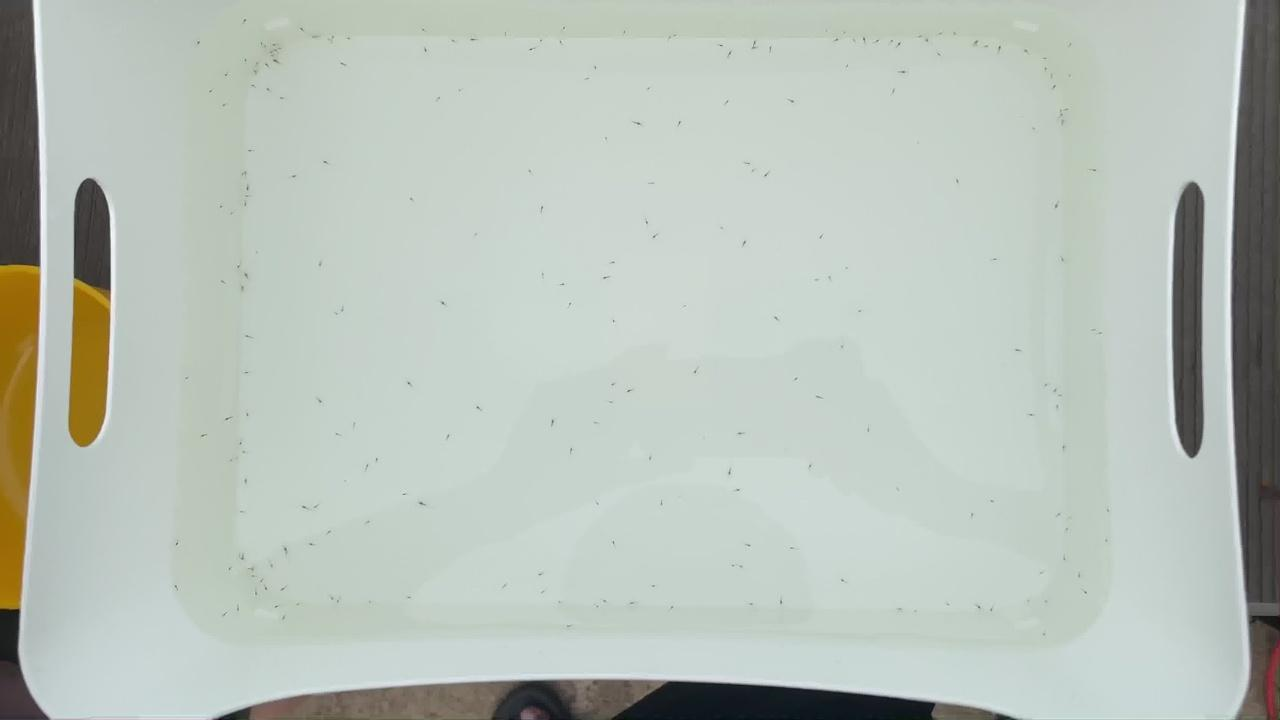shrimp: (1051, 202, 1064, 210), (1087, 168, 1100, 176), (935, 30, 948, 38), (898, 68, 911, 76), (893, 41, 906, 49), (858, 35, 871, 43), (848, 35, 861, 43), (499, 30, 512, 38), (325, 35, 338, 43), (218, 102, 231, 110), (276, 96, 289, 104), (236, 285, 249, 293), (640, 218, 653, 226), (738, 240, 751, 248), (813, 235, 826, 243), (823, 274, 836, 282), (1102, 506, 1115, 514), (1054, 511, 1067, 519), (1079, 589, 1092, 597), (941, 600, 954, 608), (965, 511, 978, 519), (787, 545, 800, 553), (813, 395, 826, 403), (804, 462, 817, 470), (607, 318, 620, 326), (592, 501, 605, 509), (647, 584, 660, 592), (626, 600, 639, 608), (416, 501, 429, 509), (371, 456, 384, 464), (403, 594, 416, 602), (364, 600, 377, 608), (241, 334, 254, 342), (172, 539, 185, 547), (169, 584, 182, 592), (259, 584, 272, 592), (233, 606, 246, 614), (265, 562, 278, 570), (218, 611, 231, 619), (950, 30, 962, 38), (823, 30, 835, 38), (419, 46, 431, 54), (269, 58, 281, 66), (241, 168, 253, 176), (563, 622, 575, 630), (1054, 197, 1067, 204), (951, 181, 964, 188), (1028, 126, 1041, 133), (1057, 120, 1070, 127), (1060, 108, 1073, 115), (1049, 83, 1062, 90), (1046, 74, 1059, 81), (1039, 66, 1052, 73), (1039, 55, 1052, 62), (1064, 72, 1077, 79), (1064, 42, 1077, 49), (1020, 50, 1033, 57), (993, 45, 1006, 52), (980, 44, 993, 51), (969, 39, 982, 46), (921, 38, 934, 45), (914, 35, 927, 42), (886, 87, 899, 94), (841, 64, 854, 71), (886, 39, 899, 46), (870, 38, 883, 45), (838, 30, 851, 37), (831, 36, 844, 43), (763, 46, 776, 53), (750, 45, 763, 52), (749, 40, 762, 47), (724, 50, 737, 57), (715, 42, 728, 49), (664, 35, 677, 42), (617, 29, 630, 36), (555, 38, 568, 45), (535, 37, 548, 44), (526, 46, 539, 53), (464, 38, 477, 45), (448, 38, 461, 45), (417, 29, 430, 36), (336, 61, 349, 68), (341, 36, 354, 43), (325, 40, 338, 47), (323, 37, 336, 44), (308, 34, 321, 41), (296, 28, 309, 35), (238, 18, 251, 25), (193, 39, 206, 46), (205, 89, 218, 96), (219, 72, 232, 79), (245, 83, 258, 90), (261, 86, 274, 93), (250, 70, 263, 77), (251, 61, 264, 68), (239, 56, 252, 63), (259, 63, 272, 70), (270, 47, 283, 54), (265, 50, 278, 57), (259, 44, 272, 51), (289, 174, 302, 181), (319, 159, 332, 166), (236, 170, 249, 177), (246, 148, 259, 155), (241, 192, 254, 199), (240, 200, 253, 207), (226, 211, 239, 218), (215, 203, 228, 210), (232, 264, 245, 271), (218, 278, 231, 285), (240, 272, 253, 279), (250, 250, 263, 257), (313, 260, 326, 267), (336, 305, 349, 312), (406, 196, 419, 203), (434, 96, 447, 103), (453, 88, 466, 95), (470, 231, 483, 238), (524, 168, 537, 175), (535, 206, 548, 213), (583, 75, 596, 82), (589, 65, 602, 72), (642, 87, 655, 94), (632, 121, 645, 128), (599, 135, 612, 142), (721, 99, 734, 106), (787, 98, 800, 105), (761, 173, 774, 180), (749, 167, 762, 174), (742, 162, 755, 169), (646, 181, 659, 188), (647, 234, 660, 241), (771, 315, 784, 322), (854, 309, 867, 316), (1056, 257, 1069, 264), (1088, 326, 1101, 333), (1093, 330, 1106, 337), (1041, 382, 1054, 389), (1048, 389, 1061, 396), (1051, 404, 1064, 411), (1024, 412, 1037, 419), (1057, 444, 1070, 451), (1060, 527, 1073, 534), (1064, 517, 1077, 524), (1059, 555, 1072, 562), (1072, 571, 1085, 578), (1036, 571, 1049, 578), (1039, 598, 1052, 605), (1021, 597, 1034, 604), (1038, 631, 1051, 638), (986, 606, 999, 613), (985, 499, 998, 506), (910, 608, 923, 615), (892, 606, 905, 613), (835, 577, 848, 584), (774, 598, 787, 605), (728, 563, 741, 570), (742, 541, 755, 548), (893, 488, 906, 495), (790, 377, 803, 384), (836, 344, 849, 351), (731, 489, 744, 496), (723, 470, 736, 477), (700, 435, 713, 442), (689, 369, 702, 376), (678, 305, 691, 312), (563, 302, 576, 309), (536, 272, 549, 279), (599, 275, 612, 282), (607, 259, 620, 266), (607, 381, 620, 388), (606, 400, 619, 407), (590, 419, 603, 426), (565, 448, 578, 455), (644, 456, 657, 463), (656, 499, 669, 506), (665, 607, 678, 614), (597, 598, 610, 605), (591, 603, 604, 610), (555, 598, 568, 605), (536, 590, 549, 597), (500, 583, 513, 590), (399, 491, 412, 498), (473, 406, 486, 413), (437, 301, 450, 308), (403, 380, 416, 387), (314, 398, 327, 405), (362, 463, 375, 470), (349, 421, 362, 428), (332, 431, 345, 438), (362, 518, 375, 525), (332, 597, 345, 604), (326, 596, 339, 603), (323, 529, 336, 536), (311, 504, 324, 511), (298, 504, 311, 511), (305, 542, 318, 549), (240, 479, 253, 486), (224, 457, 237, 464), (231, 456, 244, 463), (237, 448, 250, 455), (234, 441, 247, 448), (199, 433, 212, 440), (196, 434, 209, 441), (235, 508, 248, 515), (244, 567, 257, 574), (248, 572, 261, 579), (255, 578, 268, 585), (251, 589, 264, 596), (276, 586, 289, 593), (269, 604, 282, 611), (278, 615, 291, 622), (291, 602, 304, 609), (1056, 116, 1068, 123), (1055, 110, 1067, 117), (933, 52, 945, 59), (668, 34, 680, 41), (557, 28, 569, 35), (275, 46, 287, 53), (269, 43, 281, 50), (258, 42, 270, 49), (241, 186, 253, 193), (330, 310, 342, 317), (673, 121, 685, 128), (717, 226, 729, 233), (812, 277, 824, 284), (840, 267, 852, 274), (989, 257, 1001, 264), (1011, 347, 1023, 354), (1055, 393, 1067, 400), (1100, 537, 1112, 544), (972, 604, 984, 611), (745, 601, 757, 608), (734, 563, 746, 570), (862, 427, 874, 434), (734, 431, 746, 438), (557, 281, 569, 288), (624, 387, 636, 394), (546, 419, 558, 426), (607, 541, 619, 548), (535, 572, 547, 579), (441, 434, 453, 441), (181, 375, 193, 382), (219, 415, 231, 422), (241, 412, 253, 419), (241, 369, 253, 376), (225, 567, 237, 574), (236, 555, 248, 562), (247, 565, 259, 572), (280, 547, 292, 554)
